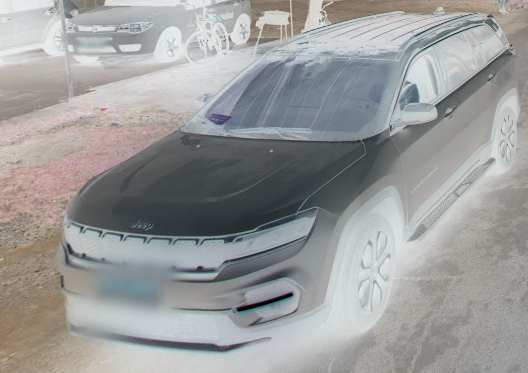car: (63, 13, 518, 340)
